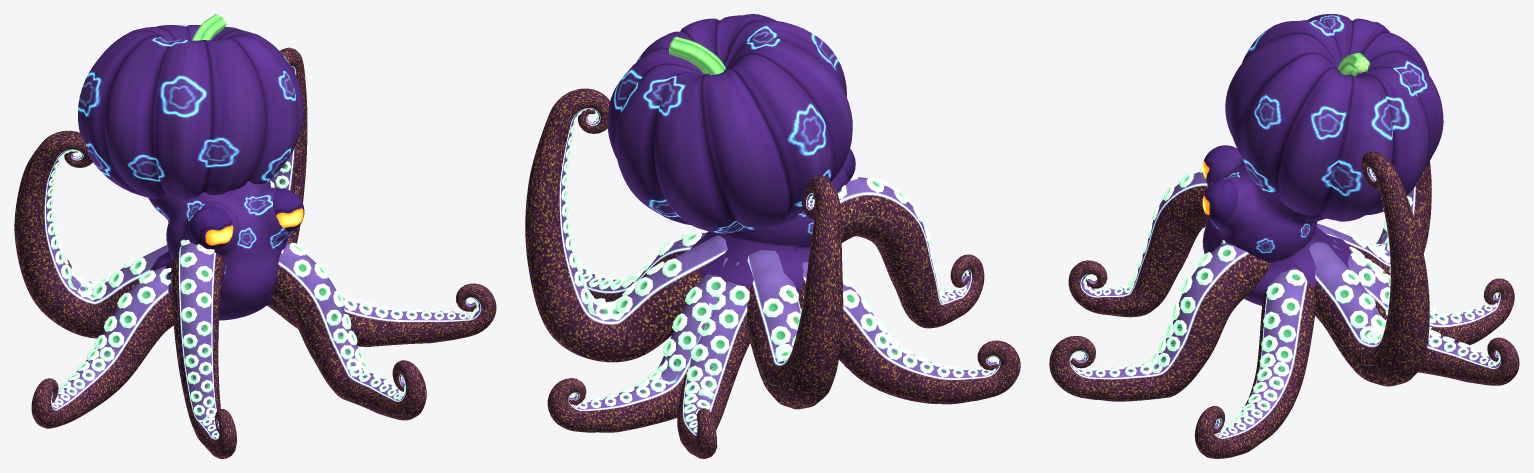
The model's file is octopus.glb.
3 views of the same model, side by side, from view 1: azimuth 30°, elevation 25°; view 2: azimuth 150°, elevation 25°; view 3: azimuth 270°, elevation 25° (orthographic). The views are drawn at different scales.
Parts seen in each view (by area): view 1: body, tentacle_5, tentacle_0, tentacle_1, tentacle_3, tentacle_2, tentacle_4, eye_L, eye_R; view 2: body, tentacle_4, tentacle_5, tentacle_1, tentacle_3, tentacle_6, tentacle_7, tentacle_2; view 3: body, tentacle_4, tentacle_0, tentacle_2, tentacle_1, tentacle_6, tentacle_7, tentacle_5, eye_R.
Boxes of the visible parts, x1=… form: body: x1=78, y1=14, x2=303, y2=320; tentacle_5: x1=14, y1=130, x2=168, y2=338; tentacle_0: x1=272, y1=242, x2=426, y2=420; tentacle_1: x1=171, y1=239, x2=236, y2=458; tentacle_3: x1=31, y1=266, x2=173, y2=428; tentacle_2: x1=267, y1=283, x2=496, y2=346; tentacle_4: x1=270, y1=47, x2=307, y2=243; eye_L: x1=189, y1=206, x2=233, y2=250; eye_R: x1=272, y1=189, x2=304, y2=231; body: x1=607, y1=14, x2=852, y2=293; tentacle_4: x1=525, y1=88, x2=727, y2=362; tentacle_5: x1=747, y1=175, x2=843, y2=409; tentacle_1: x1=837, y1=174, x2=984, y2=328; tentacle_3: x1=799, y1=262, x2=1020, y2=404; tentacle_6: x1=547, y1=258, x2=728, y2=432; tentacle_7: x1=677, y1=261, x2=750, y2=458; tentacle_2: x1=578, y1=231, x2=706, y2=302; body: x1=1202, y1=14, x2=1443, y2=305; tentacle_4: x1=1309, y1=151, x2=1429, y2=386; tentacle_0: x1=1049, y1=240, x2=1270, y2=401; tentacle_2: x1=1194, y1=268, x2=1316, y2=458; tentacle_1: x1=1068, y1=168, x2=1208, y2=317; tentacle_6: x1=1332, y1=244, x2=1519, y2=385; tentacle_7: x1=1334, y1=240, x2=1514, y2=345; tentacle_5: x1=1316, y1=161, x2=1431, y2=275; eye_R: x1=1202, y1=179, x2=1238, y2=223.
Bounding box in the file's own units: 8.48 × 5.84 × 7.65.
2 materials, 2 textured.
